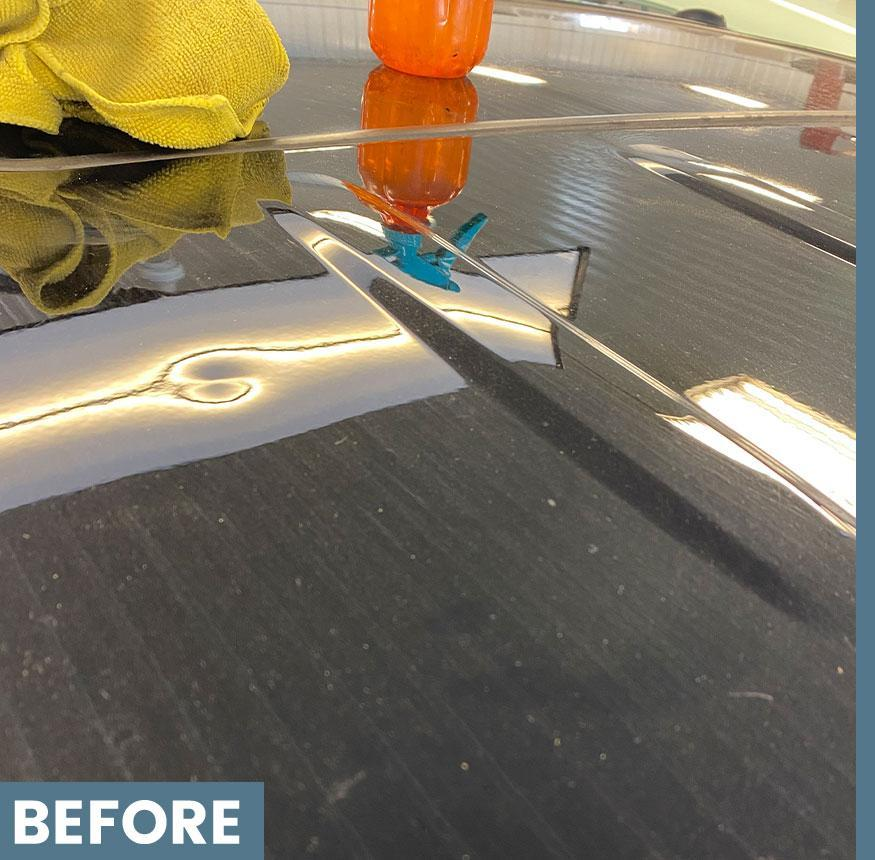dent: (115, 326, 330, 472)
